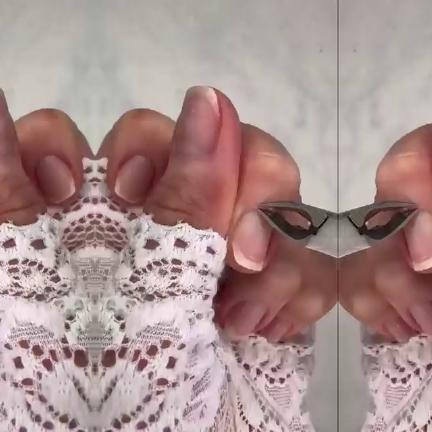Nail: (176, 86, 219, 156), (231, 210, 271, 271), (114, 156, 153, 204), (35, 156, 74, 204), (403, 210, 432, 271), (223, 301, 266, 341), (408, 301, 432, 339), (0, 88, 12, 156), (266, 321, 291, 344), (383, 321, 408, 344)
